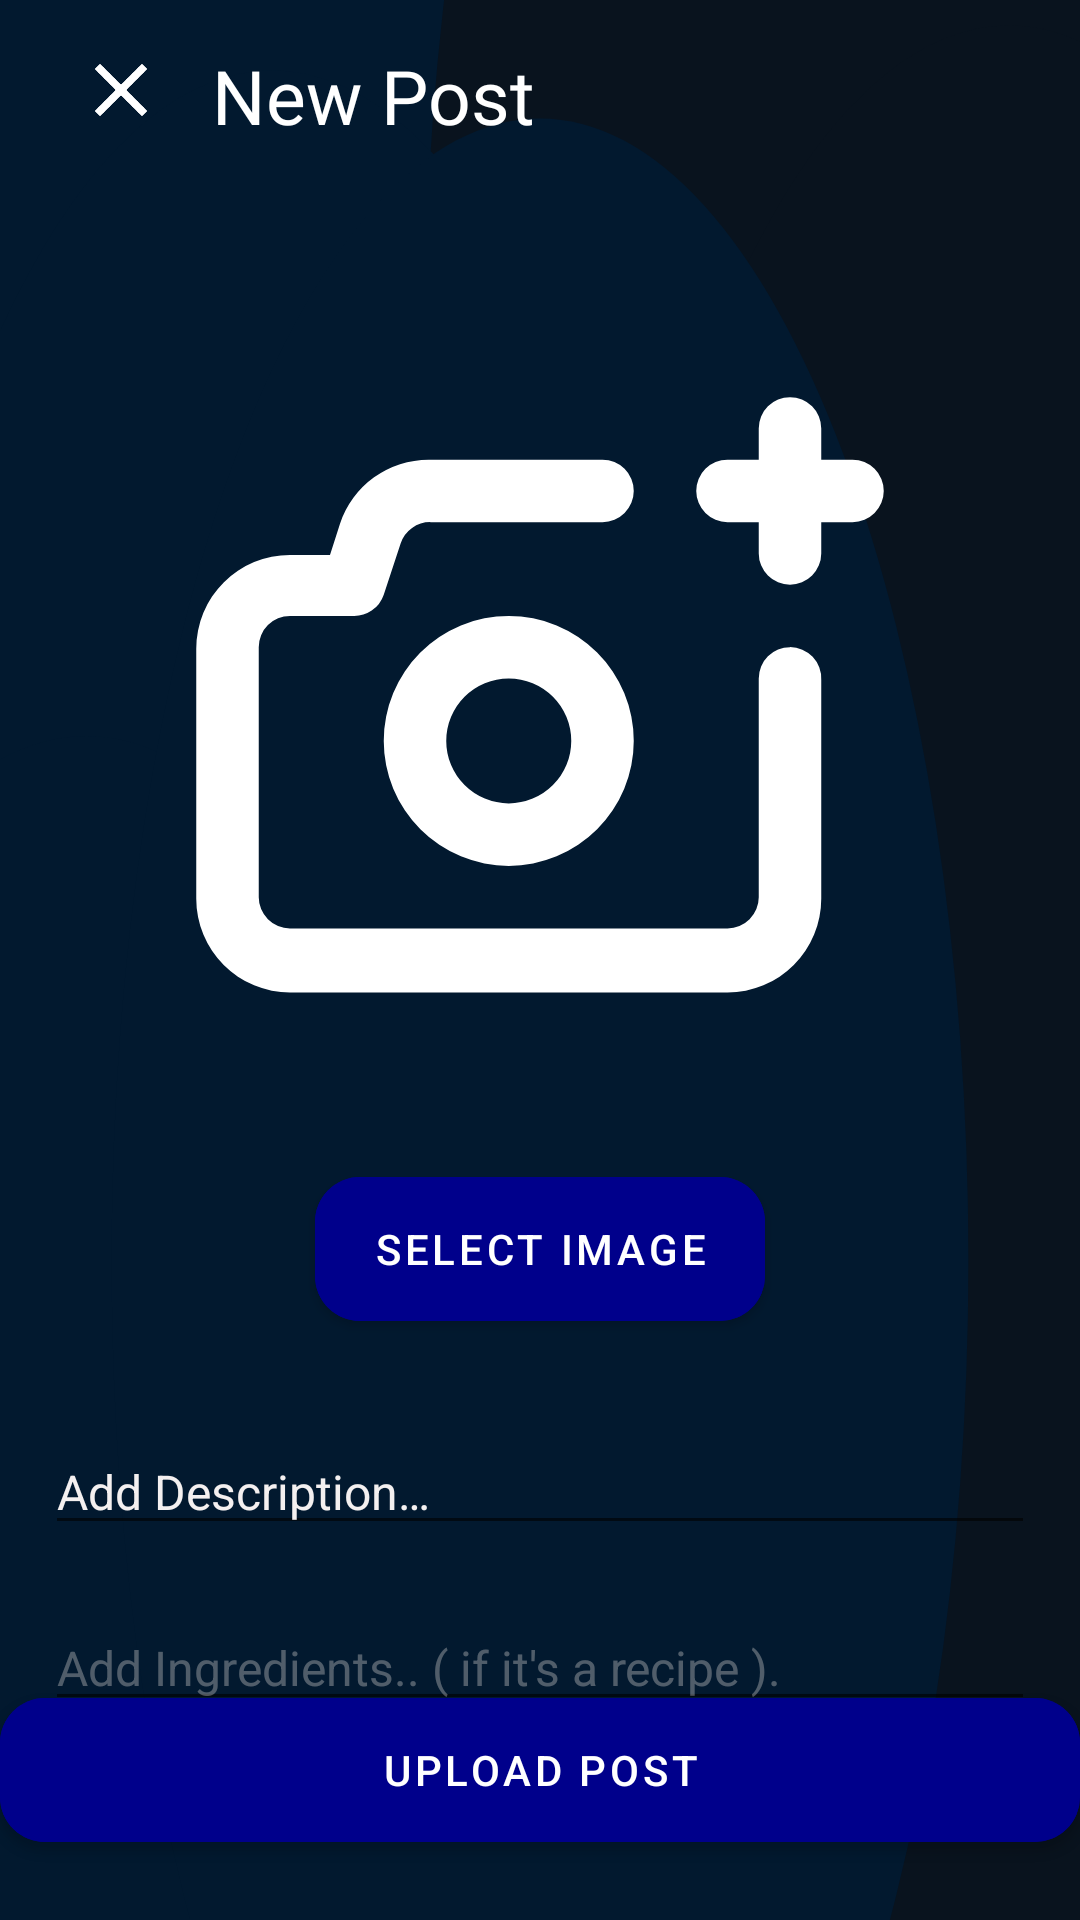

Named icons in this screenshot (1080×1920) and their centers, (x=x, y=y):
close: (x=121, y=90)
